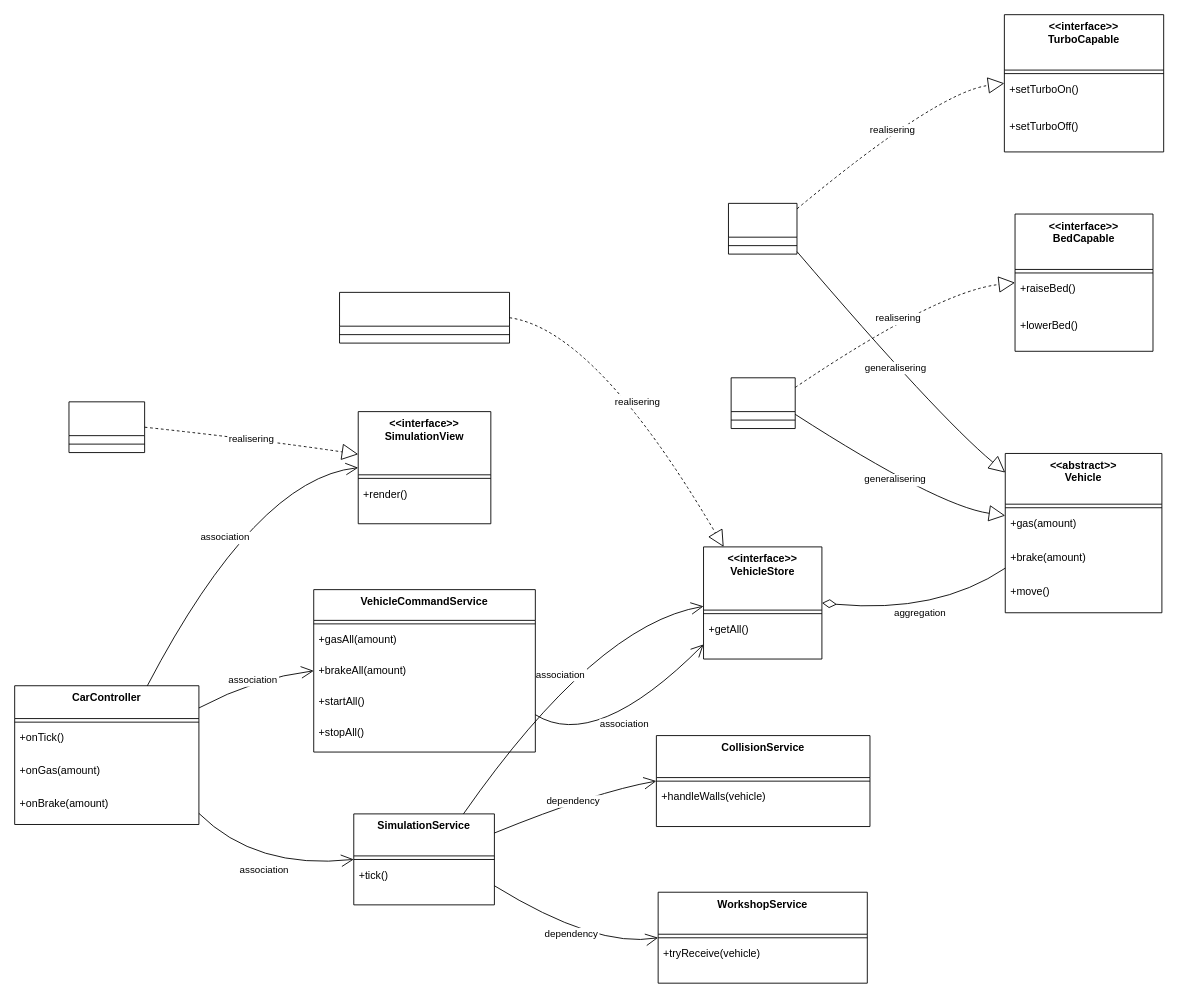
Image size: 1178x998. Some labels were removed from this diagram. Each missing label, with the centre of its shape:
CarView: (106,427)
InMemoryVehicleStore: (424,317)
Saab95: (762,228)
Scania: (762,403)
